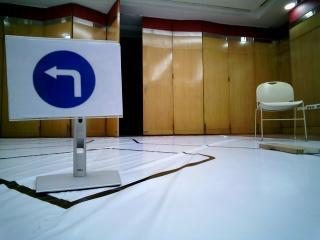left: (19, 43, 112, 111)
